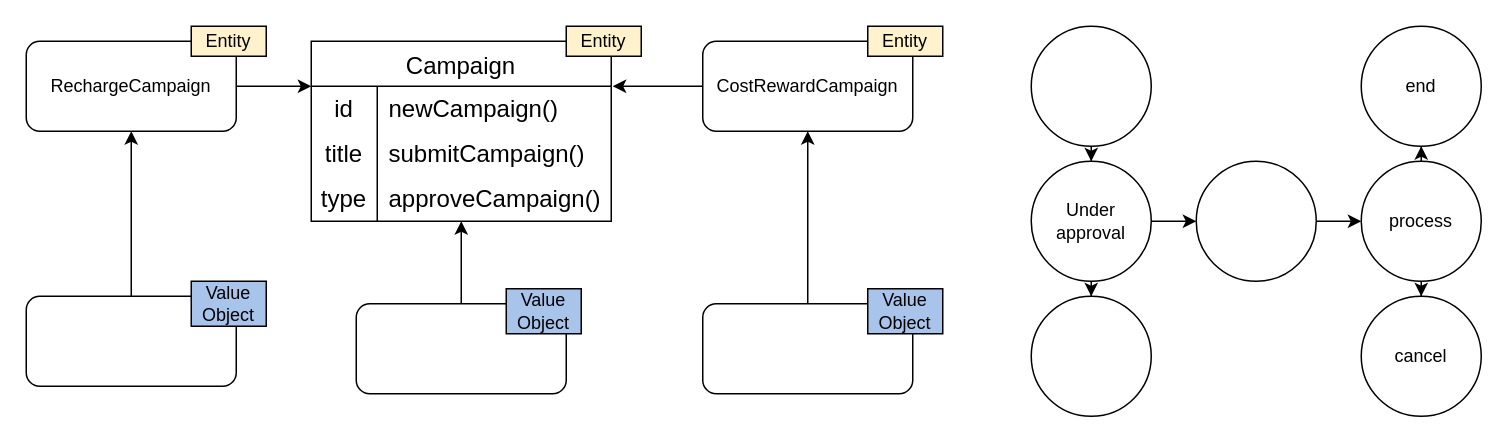
The diagram is 1508 pixels wide and 443 high, and some of its shapes have lost their labels. The box of each missing label's shape, as (x1, y1, x2, y2) in pixels:
CostRewardGear: (701, 302, 913, 394)
New market activity: (1030, 25, 1151, 146)
pass: (1195, 160, 1316, 281)
RechargeGear: (25, 295, 236, 386)
reject: (1030, 295, 1151, 416)
Stock: (355, 302, 566, 394)
